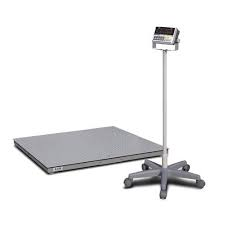Industrial Scale: (12, 26, 206, 200)
